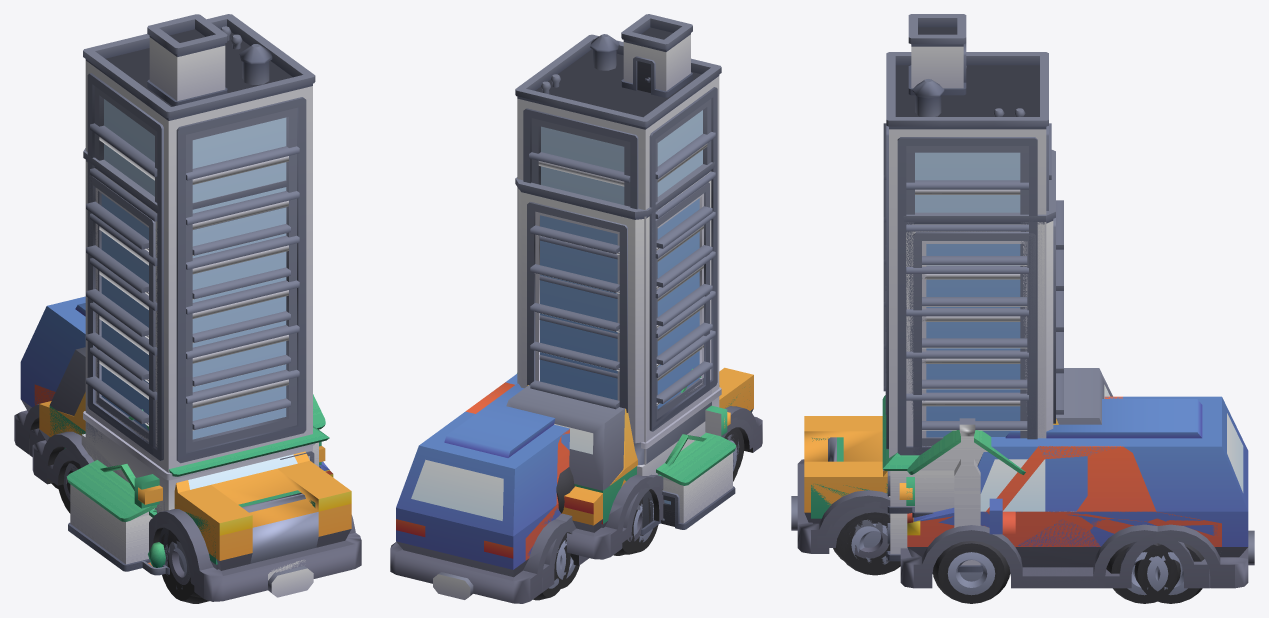
File: hole-swallow.glb
The picture shows the model from 3 angles, left to right: view 1: azimuth 30°, elevation 25°; view 2: azimuth 150°, elevation 25°; view 3: azimuth 270°, elevation 25°; orthographic projection. The views are drawn at different scales.
Visible parts, largest first — view 1: skyC, taxi, skyA, houseD, suv, van, houseF, sedan; view 2: skyC, skyA, van, suv, taxi, houseD, sedan; view 3: skyC, van, skyA, sedan, taxi, houseD, suv, houseF.
Boxes of the visible parts, bbox=[...] form: skyC: bbox=[83, 14, 315, 574]; taxi: bbox=[32, 392, 361, 601]; skyA: bbox=[81, 148, 290, 565]; houseD: bbox=[66, 394, 325, 571]; suv: bbox=[44, 347, 321, 603]; van: bbox=[14, 296, 329, 488]; houseF: bbox=[128, 409, 329, 575]; sedan: bbox=[29, 384, 333, 477]; skyC: bbox=[515, 14, 721, 526]; skyA: bbox=[515, 162, 714, 535]; van: bbox=[390, 374, 588, 603]; suv: bbox=[506, 385, 757, 554]; taxi: bbox=[527, 367, 762, 559]; houseD: bbox=[517, 373, 736, 529]; sedan: bbox=[465, 382, 579, 592]; skyC: bbox=[883, 14, 1051, 557]; van: bbox=[900, 396, 1254, 603]; skyA: bbox=[885, 150, 1063, 455]; sedan: bbox=[900, 396, 1221, 603]; taxi: bbox=[791, 416, 1058, 569]; houseD: bbox=[907, 418, 1025, 572]; suv: bbox=[811, 368, 1112, 575]; houseF: bbox=[882, 395, 919, 561].
Bounding box in the file's own units: 1.93 × 4.38 × 3.53.
10 materials, 6 textured.
